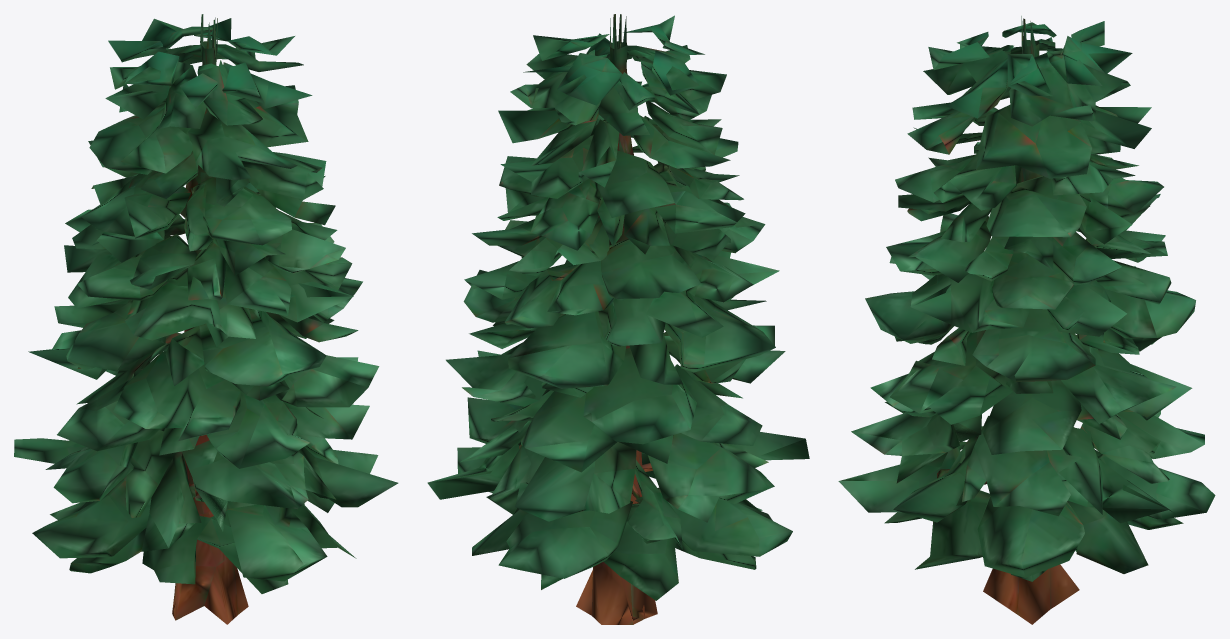
Rendered from pine_tree.glb.
3 renders of one model, left to right at view 1: azimuth 30°, elevation 25°; view 2: azimuth 150°, elevation 25°; view 3: azimuth 270°, elevation 25°, orthographic.
Parts seen in each view (by area): view 1: 0; view 2: 0; view 3: 0.
Boxes of the visible parts, <box> form: 0: <box>14,14,398,624</box>; 0: <box>427,14,809,624</box>; 0: <box>838,16,1215,624</box>.
Size of the model in its own units: 0.8532 by 1.44 by 0.8375.
Materials: 1 (1 with a texture image).
